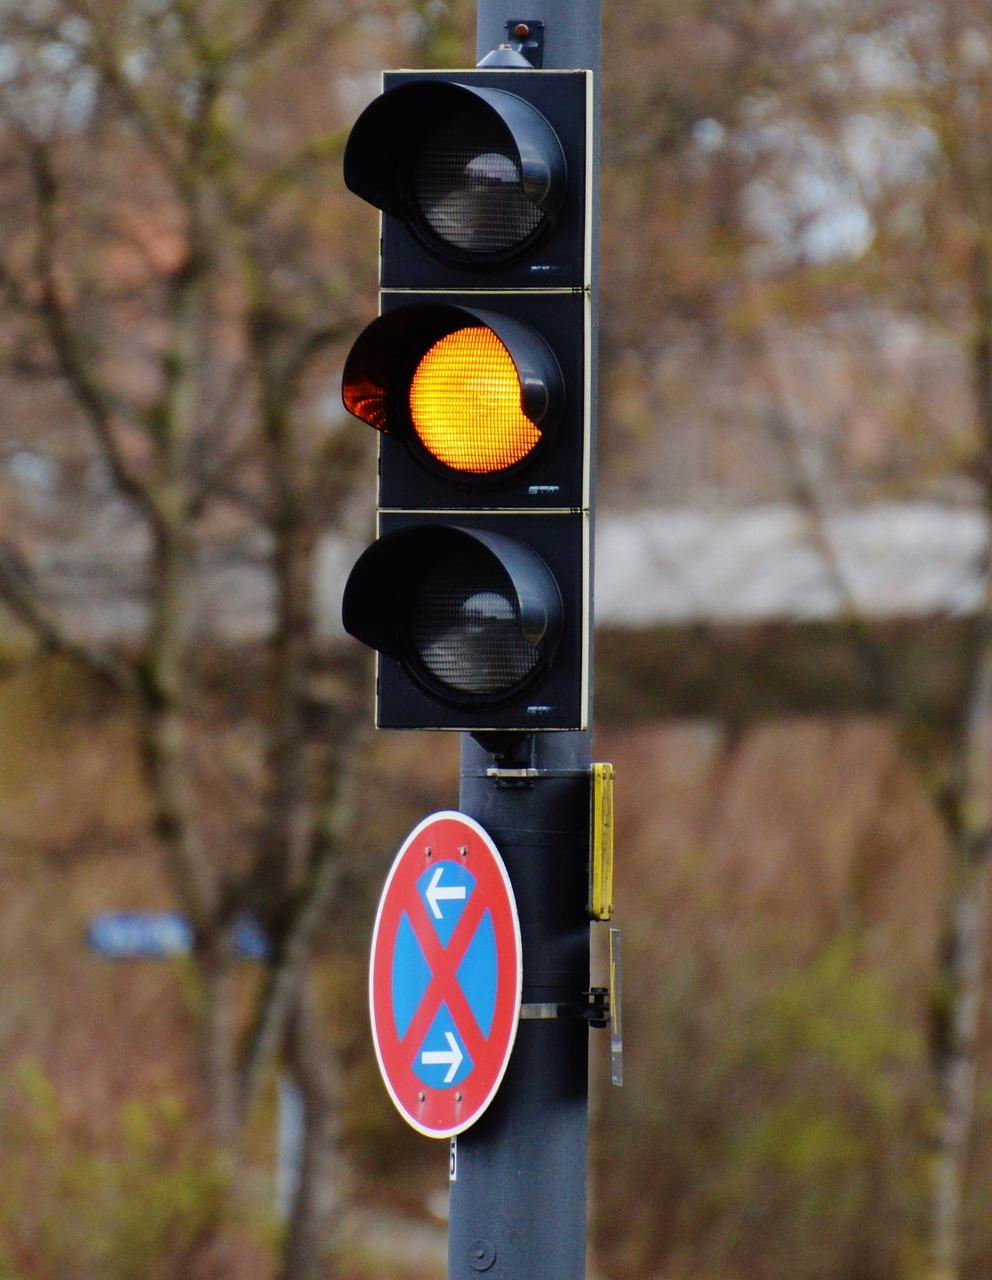yellow_light: (343, 73, 589, 730)
